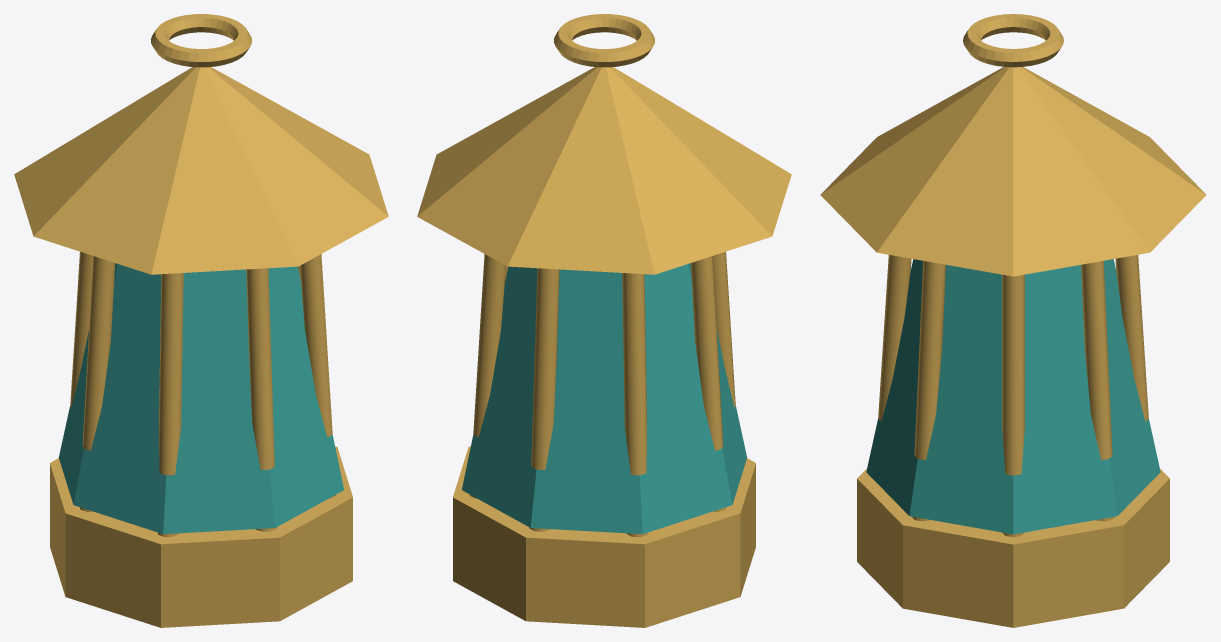
File: morocco-arch-lantern.glb
3 renders of one model, left to right at view 1: azimuth 30°, elevation 25°; view 2: azimuth 150°, elevation 25°; view 3: azimuth 270°, elevation 25°, orthographic.
Visible parts, largest first — view 1: ランタンの やね, アーチの あかり, ランタンの だい, あかりの ほね.005, あかりの ほね.006, あかりの ほね.004, つりわ, あかりの ほね.007, あかりの ほね.003; view 2: ランタンの やね, アーチの あかり, ランタンの だい, あかりの ほね.003, あかりの ほね.002, あかりの ほね.004, つりわ, あかりの ほね.001, あかりの ほね.005; view 3: ランタンの やね, アーチの あかり, ランタンの だい, あかりの ほね, あかりの ほね.001, あかりの ほね.007, つりわ, あかりの ほね.002, あかりの ほね.006.
Part boxes in pixels (left/top/right/bottom): ランタンの やね: left=14, top=67, right=388, bottom=274; アーチの あかり: left=58, top=263, right=343, bottom=534; ランタンの だい: left=50, top=446, right=352, bottom=627; あかりの ほね.005: left=157, top=273, right=183, bottom=537; あかりの ほね.006: left=246, top=268, right=276, bottom=531; あかりの ほね.004: left=80, top=256, right=115, bottom=511; つりわ: left=151, top=14, right=251, bottom=67; あかりの ほね.007: left=300, top=254, right=336, bottom=498; あかりの ほね.003: left=70, top=251, right=92, bottom=407; ランタンの やね: left=417, top=67, right=791, bottom=274; アーチの あかり: left=462, top=263, right=747, bottom=534; ランタンの だい: left=453, top=446, right=755, bottom=627; あかりの ほね.003: left=622, top=273, right=648, bottom=537; あかりの ほね.002: left=529, top=268, right=559, bottom=531; あかりの ほね.004: left=690, top=256, right=725, bottom=511; つりわ: left=554, top=14, right=654, bottom=67; あかりの ほね.001: left=469, top=254, right=505, bottom=498; あかりの ほね.005: left=713, top=251, right=735, bottom=407; ランタンの やね: left=820, top=67, right=1206, bottom=276; アーチの あかり: left=866, top=259, right=1160, bottom=534; ランタンの だい: left=857, top=469, right=1169, bottom=627; あかりの ほね: left=1002, top=274, right=1024, bottom=537; あかりの ほね.001: left=1081, top=261, right=1114, bottom=521; あかりの ほね.007: left=912, top=261, right=945, bottom=521; つりわ: left=963, top=14, right=1063, bottom=67; あかりの ほね.002: left=1115, top=255, right=1148, bottom=421; あかりの ほね.006: left=878, top=255, right=911, bottom=421.
Bounding box in the file's own units: 0.84 × 1.27 × 0.84.
